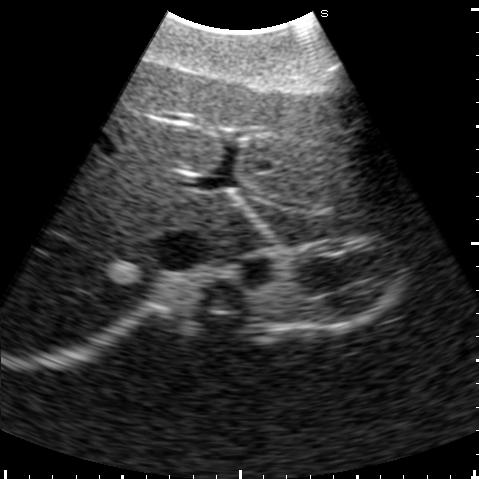IVC: (148, 228, 210, 268)
S1: (204, 195, 265, 260)
S2: (241, 191, 423, 245)
S3: (233, 85, 413, 214)
